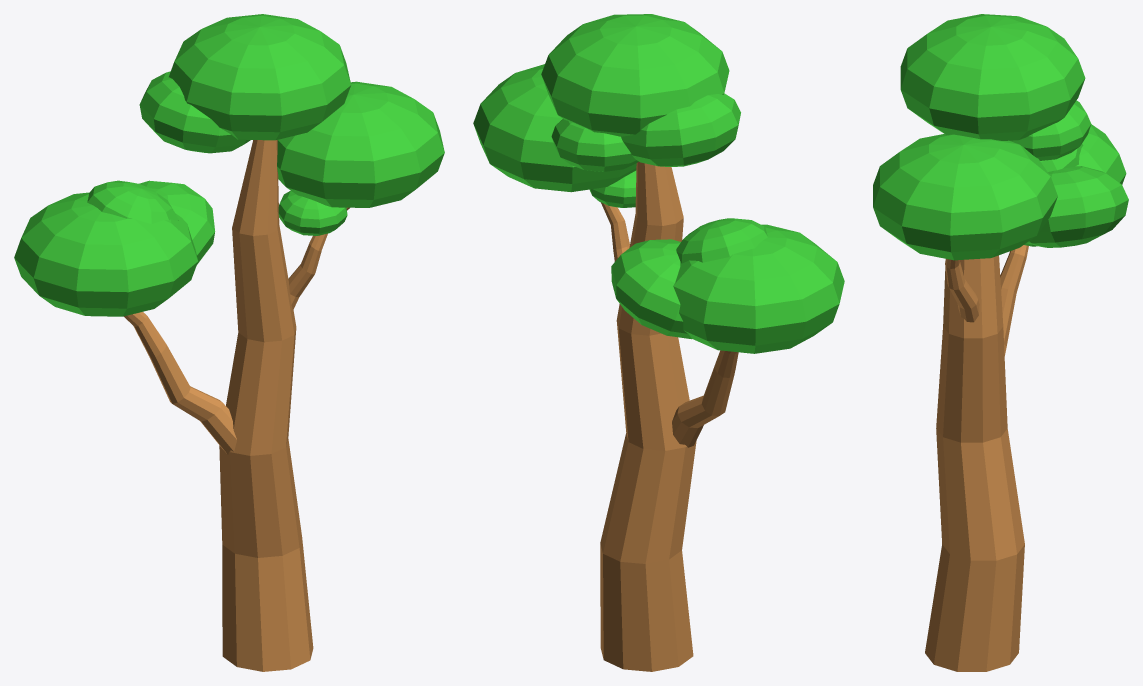
File: Tree 2.fbx
The picture shows the model from 3 angles, left to right: view 1: azimuth 30°, elevation 25°; view 2: azimuth 150°, elevation 25°; view 3: azimuth 270°, elevation 25°; orthographic projection. The views are drawn at different scales.
Parts seen in each view (by area): view 1: Sphere.008; view 2: Sphere.008; view 3: Sphere.008.
Boxes of the visible parts, x1,y1,x2,y2 form: Sphere.008: [14, 14, 444, 671]; Sphere.008: [473, 14, 844, 671]; Sphere.008: [873, 14, 1128, 671].
Size of the model in its own units: 4.62 by 7.33 by 2.71.
